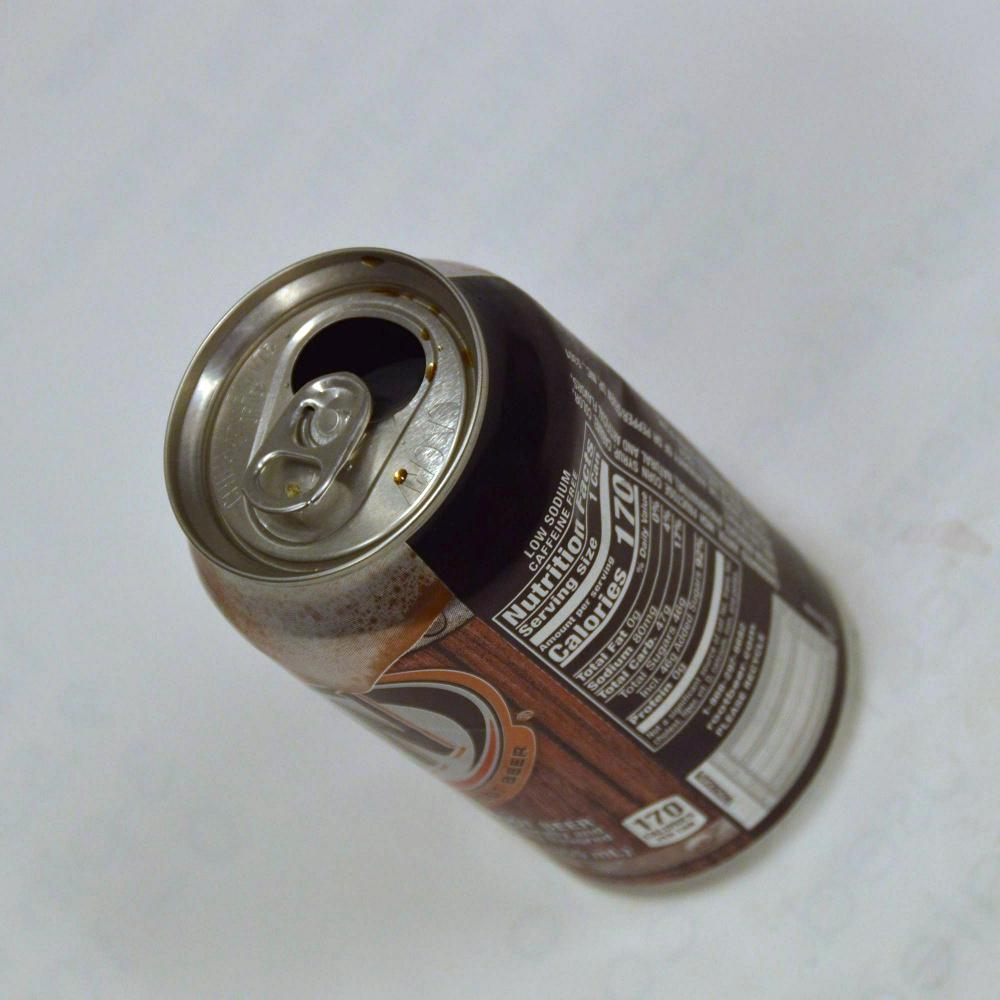Metal: (131, 168, 870, 918)
